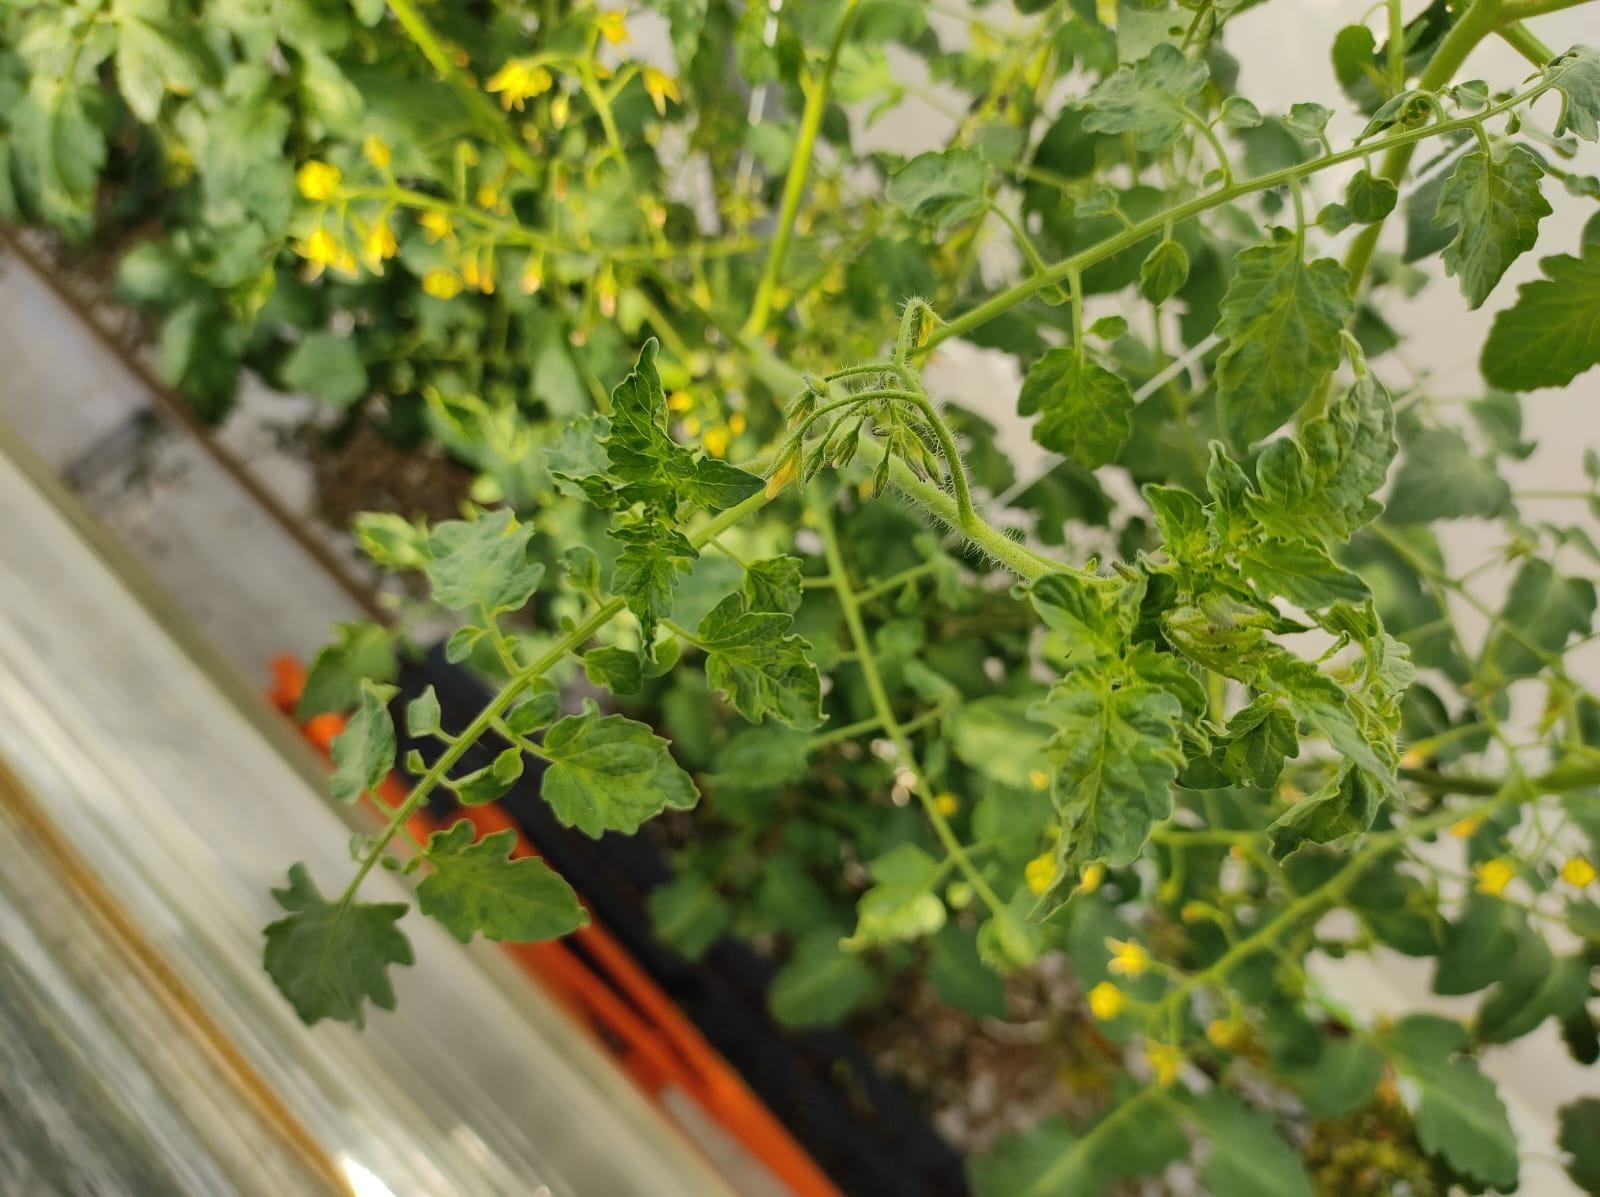Rugose leaf: (1031, 665, 1184, 914), (1247, 375, 1396, 546), (540, 700, 700, 837), (694, 593, 825, 729), (610, 519, 696, 649), (603, 337, 675, 482)
